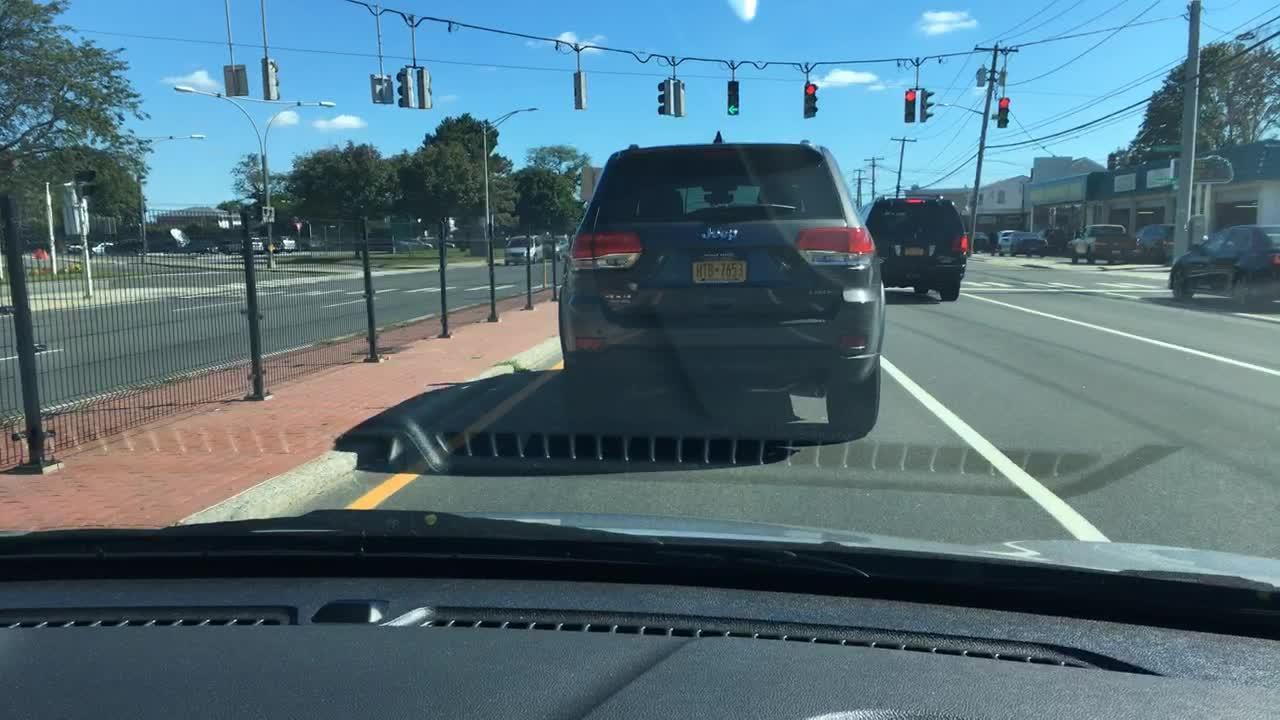jeep: (690, 222, 754, 246)
